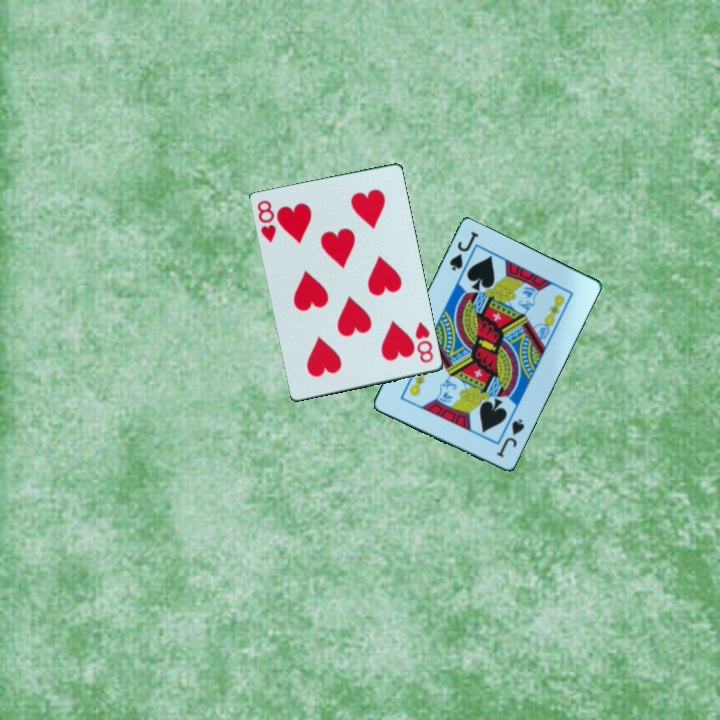8h: (254, 197, 279, 246), (412, 318, 437, 366)
Js: (446, 228, 481, 274), (494, 415, 528, 461)
